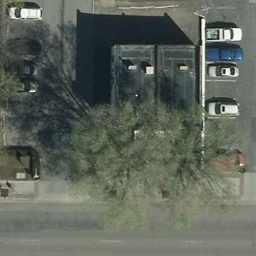car: (204, 147, 243, 177), (6, 62, 41, 81), (4, 76, 40, 94), (207, 100, 240, 117), (206, 27, 243, 41), (205, 45, 242, 59), (10, 7, 44, 22), (206, 65, 239, 78)
